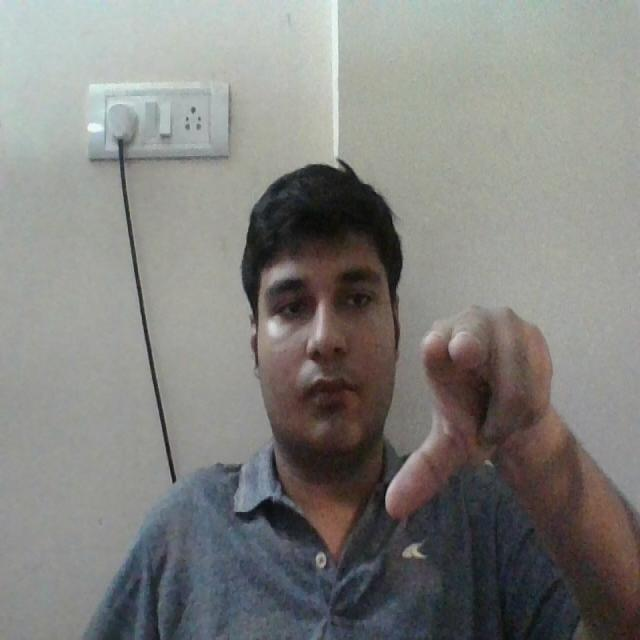no: (386, 306, 585, 519)
